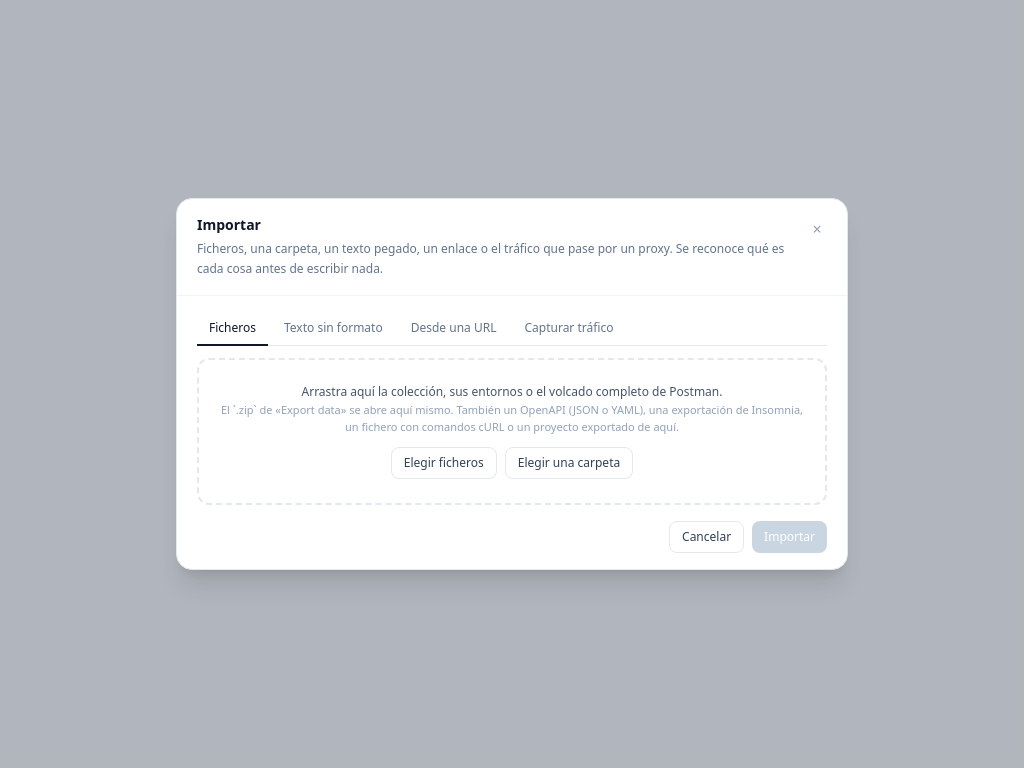
Scenario: capturar tráfico › apagada en el servidor, lo dice en vez de enseñar un botón que falla
Click the button "Capturar tráfico": (569,329) [512,312,626,346]
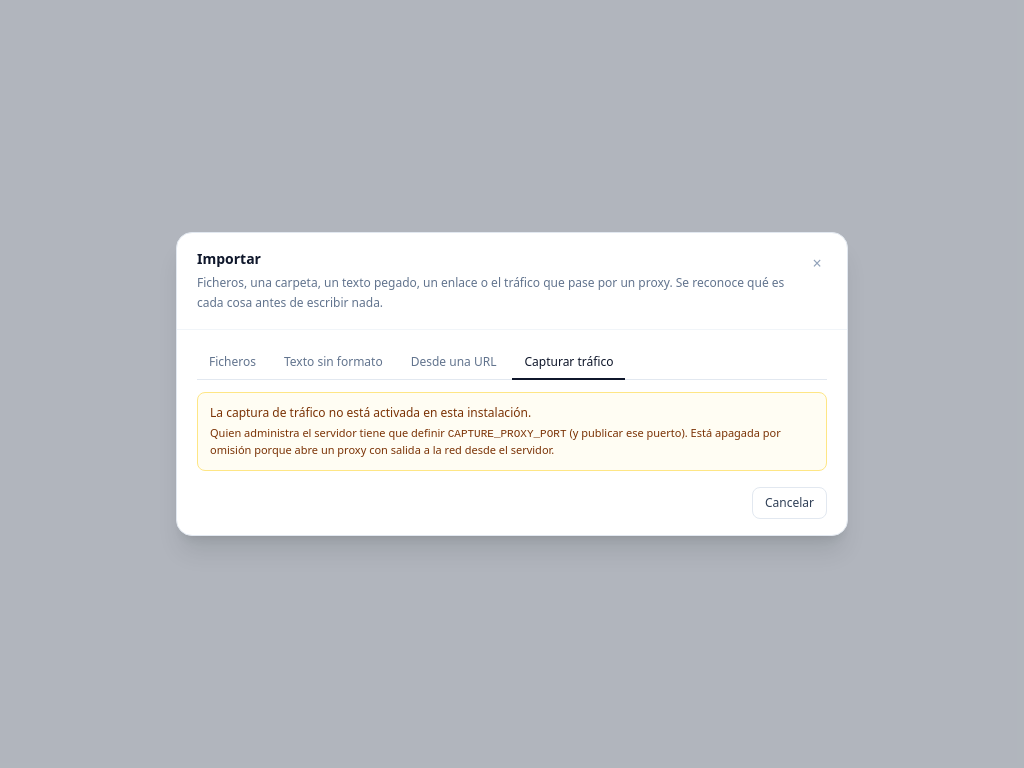
Check: the text "La captura de tráfico no está activada en esta instalación." is shown, box [210,404,531,421]
